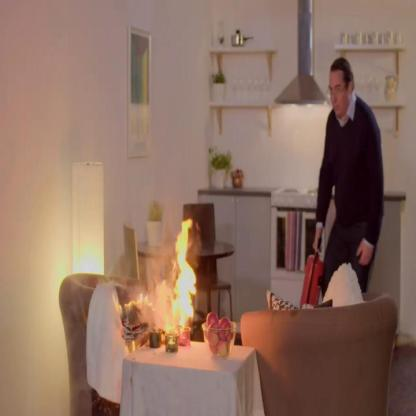fire: (170, 216, 198, 328)
